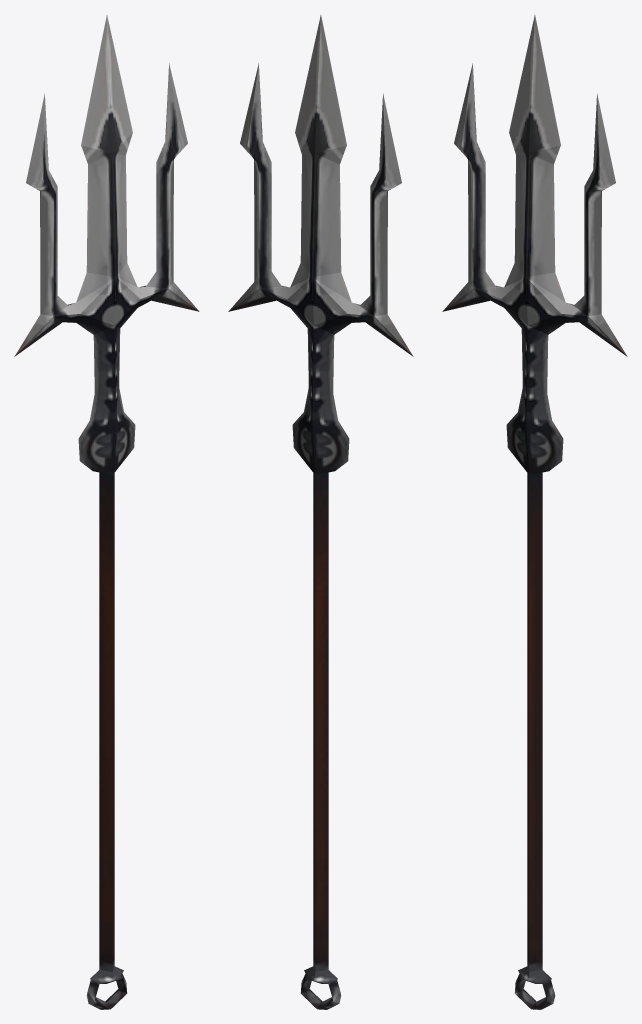
The model's file is chengpu_wuqi.FBX.
3 views of the same model, side by side, from view 1: azimuth 30°, elevation 25°; view 2: azimuth 150°, elevation 25°; view 3: azimuth 330°, elevation 25° (orthographic).
Parts seen in each view (by area): view 1: body; view 2: body; view 3: body.
Boxes of the visible parts, x1,y1,x2,y2 form: body: (14,15,199,1009); body: (228,15,413,1009); body: (442,15,627,1009).
Size of the model in its own units: 23.93 by 122 by 4.04.
Materials: 1 (1 with a texture image).
